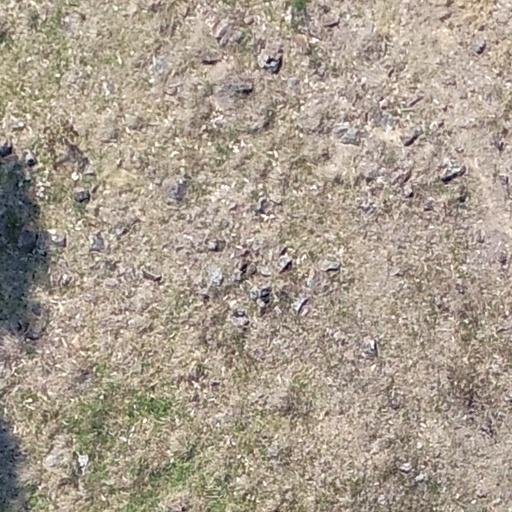stone: (257, 46, 283, 75), (16, 223, 38, 255), (384, 163, 412, 186), (163, 174, 186, 201), (435, 164, 464, 184), (248, 282, 273, 300), (86, 232, 107, 252), (227, 78, 253, 94), (340, 128, 364, 145), (67, 186, 91, 203), (0, 126, 13, 157), (471, 36, 490, 57), (48, 228, 68, 246), (17, 148, 37, 165), (211, 19, 228, 39), (399, 130, 419, 147), (252, 295, 267, 317), (276, 256, 293, 274), (236, 258, 254, 274), (203, 50, 223, 64), (142, 270, 164, 282), (206, 239, 226, 252), (401, 180, 415, 197), (319, 260, 341, 270), (324, 16, 341, 28)
